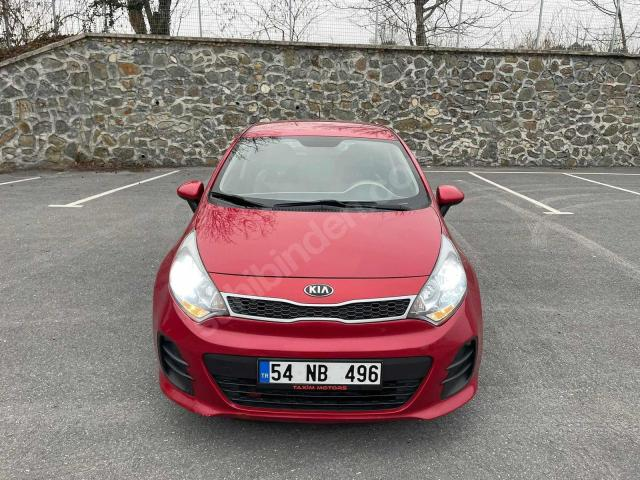plaka: (258, 359, 382, 389)
